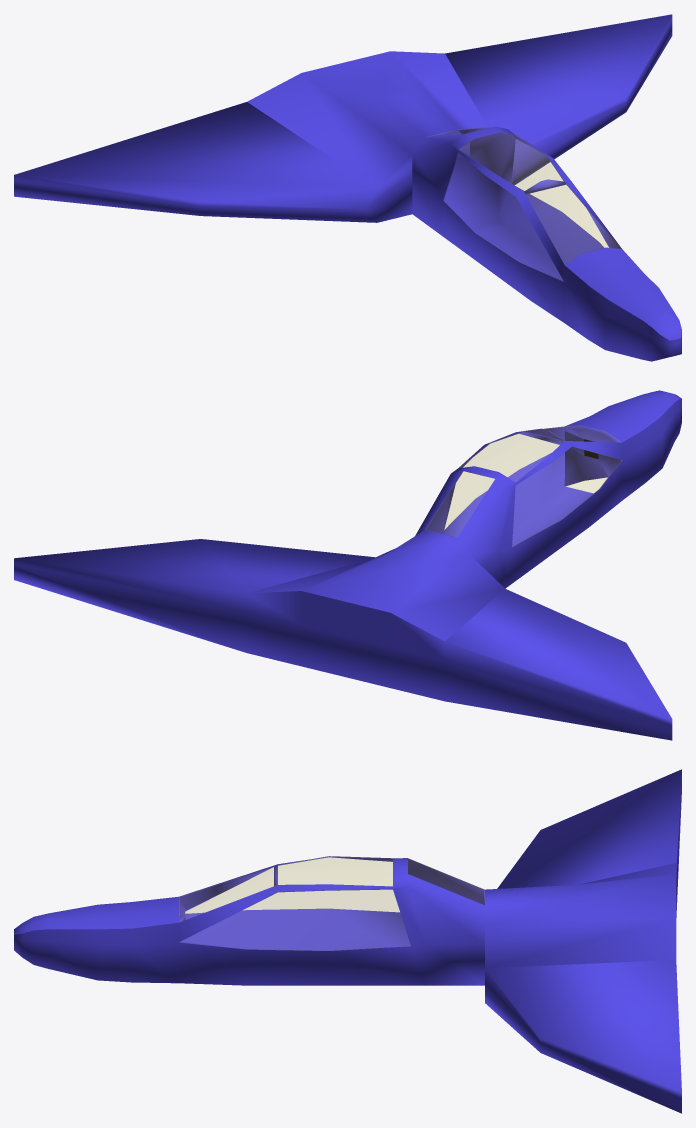
File: ship2.glb
3 renders of one model, top to bottom at view 1: azimuth 30°, elevation 25°; view 2: azimuth 150°, elevation 25°; view 3: azimuth 270°, elevation 25°, orthographic.
Parts seen in each view (by area): view 1: Cube; view 2: Cube; view 3: Cube.
Boxes of the visible parts, x1=… form: Cube: x1=14, y1=14, x2=681, y2=361; Cube: x1=14, y1=390, x2=681, y2=740; Cube: x1=14, y1=769, x2=681, y2=1113.
Size of the model in its own units: 14.08 by 2.17 by 12.32.
